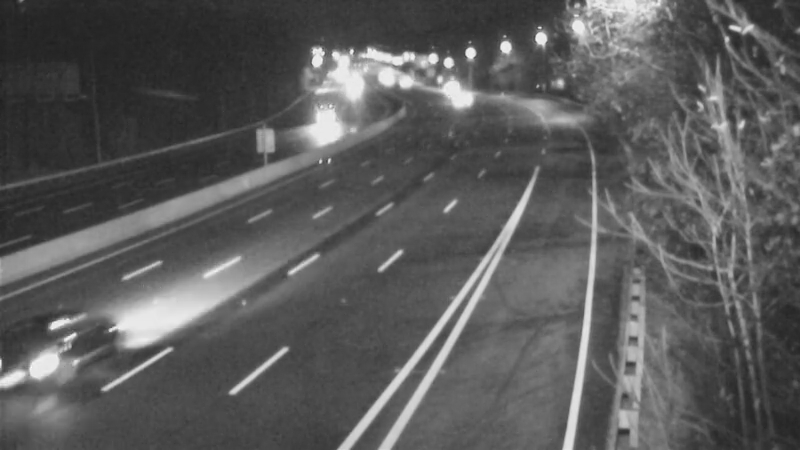vehicle: (1, 300, 111, 410), (379, 57, 429, 107), (424, 62, 474, 112), (431, 73, 481, 123), (300, 94, 350, 144)
